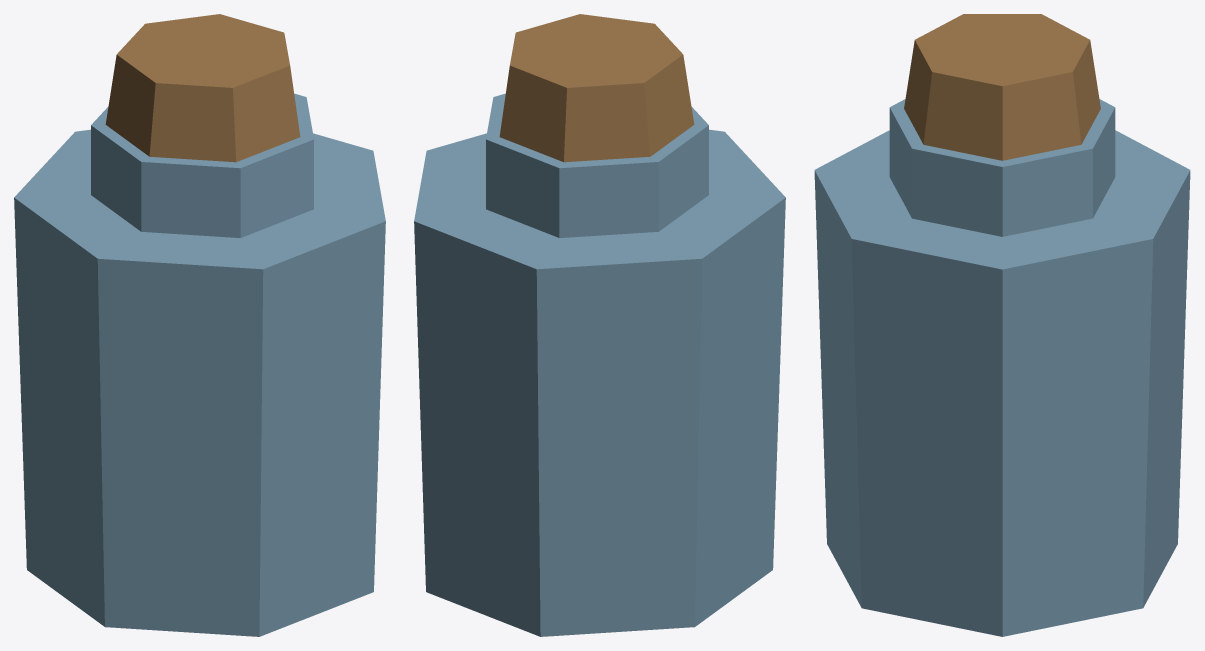
The model's file is note_jar.glb.
3 renders of one model, left to right at view 1: azimuth 30°, elevation 25°; view 2: azimuth 150°, elevation 25°; view 3: azimuth 270°, elevation 25°, orthographic.
Parts seen in each view (by area): view 1: note_jar; view 2: note_jar; view 3: note_jar.
Part boxes in pixels (left/top/right/bottom): note_jar: left=14, top=14, right=385, bottom=636; note_jar: left=414, top=14, right=785, bottom=636; note_jar: left=814, top=14, right=1190, bottom=636.
Bounding box in the file's own units: 0.1426 × 0.22 × 0.1462.
